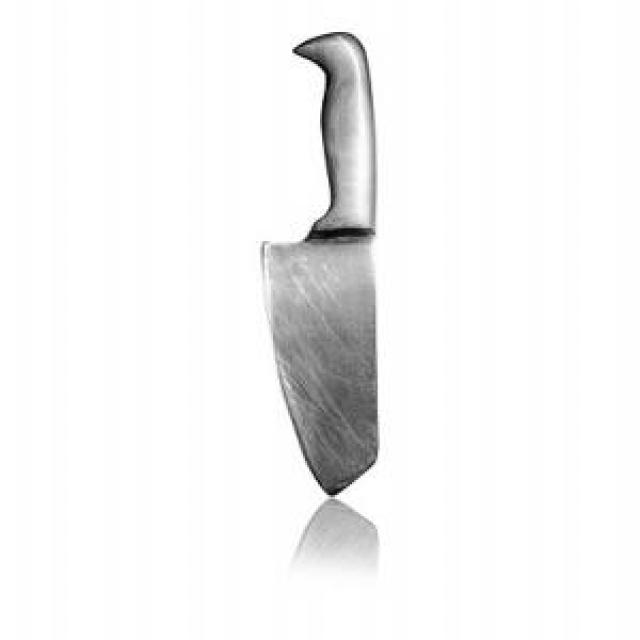knife: (256, 32, 399, 498)
